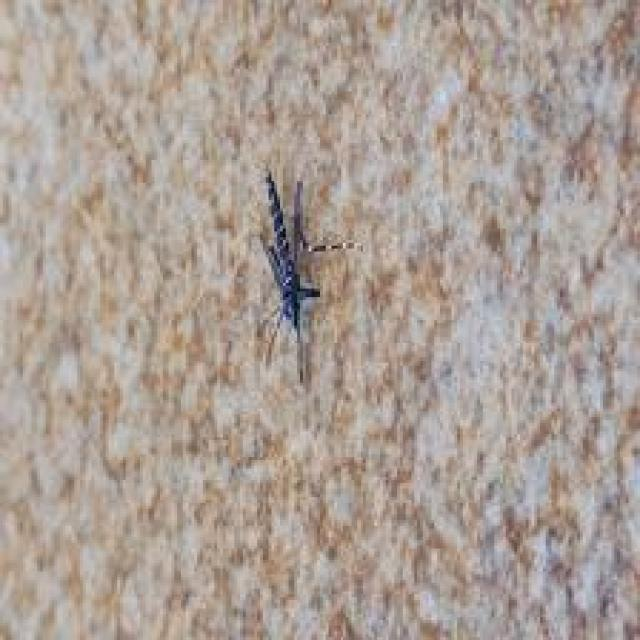Aedes albopictus: (257, 167, 363, 342)
